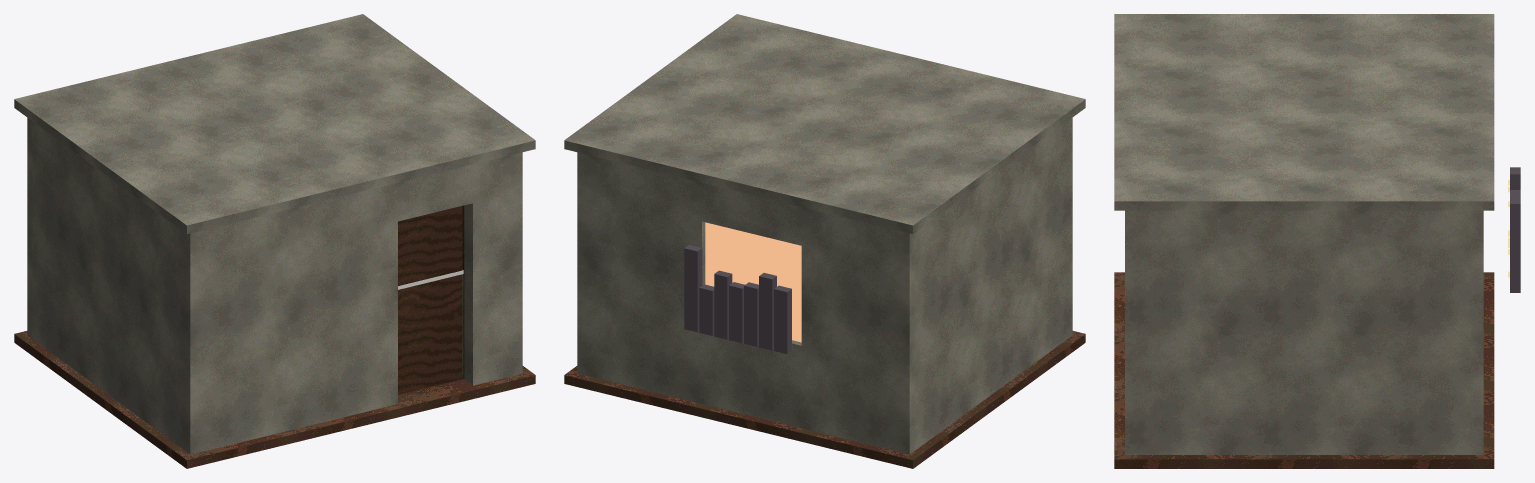
File: cozinha.glb
3 renders of one model, left to right at view 1: azimuth 30°, elevation 25°; view 2: azimuth 150°, elevation 25°; view 3: azimuth 270°, elevation 25°, orthographic. The views are drawn at different scales.
Parts seen in each view (by area): view 1: plaster-col, wood_dark-col, linoleum-col; view 2: plaster-col, linoleum-col, flat.004, flat.003; view 3: plaster-col, linoleum-col, flat.004.
Boxes of the visible parts, <box> form: plaster-col: <box>14,14,535,454</box>; wood_dark-col: <box>398,206,462,394</box>; linoleum-col: <box>14,331,535,468</box>; plaster-col: <box>564,14,1085,454</box>; linoleum-col: <box>564,331,1085,468</box>; flat.004: <box>684,245,791,354</box>; flat.003: <box>705,222,801,342</box>; plaster-col: <box>1114,14,1494,454</box>; linoleum-col: <box>1114,272,1494,468</box>; flat.004: <box>1510,167,1520,292</box>.
Size of the model in its own units: 4.2 by 2.8 by 3.85.
Materials: 57 (17 with a texture image).
